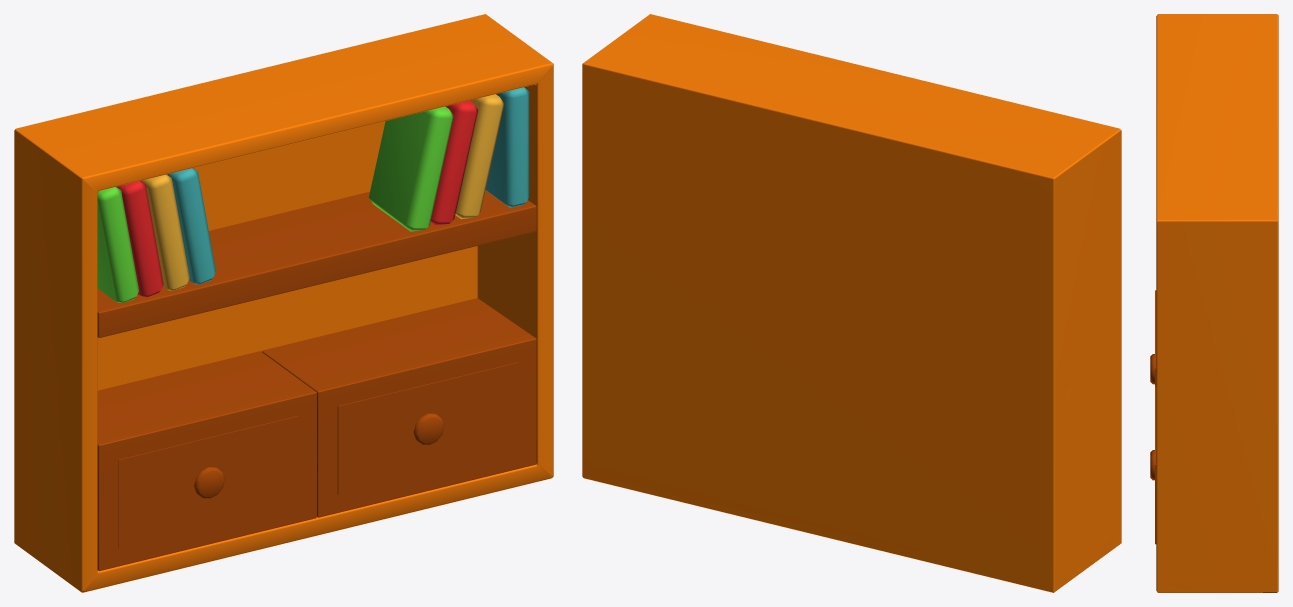
Rendered from Cabinet.fbx.
The picture shows the model from 3 angles, left to right: view 1: azimuth 30°, elevation 25°; view 2: azimuth 150°, elevation 25°; view 3: azimuth 270°, elevation 25°; orthographic projection. The views are drawn at different scales.
Parts seen in each view (by area): view 1: Cabinet; view 2: Cabinet; view 3: Cabinet.
Boxes of the visible parts, x1,y1,x2,y2 form: Cabinet: [14, 14, 553, 592]; Cabinet: [582, 14, 1121, 592]; Cabinet: [1150, 14, 1278, 592].
Size of the model in its own units: 200 by 168 by 52.44.
